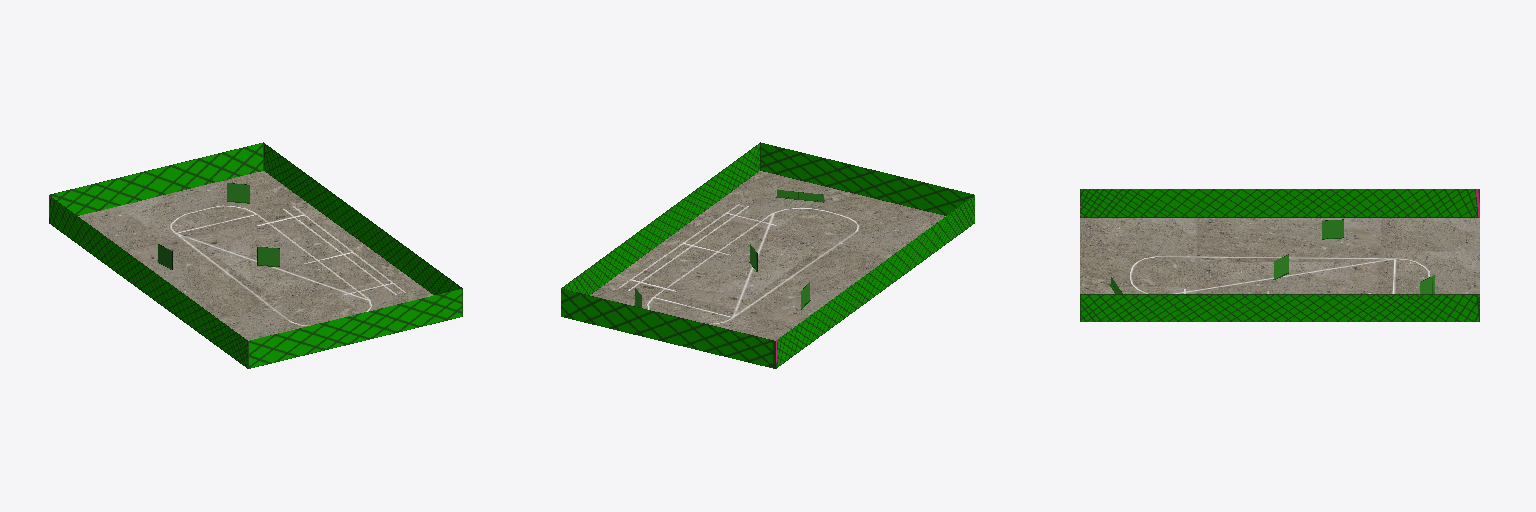
3 renders of one model, left to right at view 1: azimuth 30°, elevation 25°; view 2: azimuth 150°, elevation 25°; view 3: azimuth 270°, elevation 25°, orthographic.
Visible parts, largest first — view 1: Plane_Plane.001; view 2: Plane_Plane.001; view 3: Plane_Plane.001.
Part boxes in pixels (bbox=[...]): Plane_Plane.001: bbox=[49, 142, 462, 368]; Plane_Plane.001: bbox=[561, 142, 974, 368]; Plane_Plane.001: bbox=[1080, 189, 1479, 321].
Size of the model in its own units: 71.47 by 9.15 by 115.
Materials: 2 (2 with a texture image).